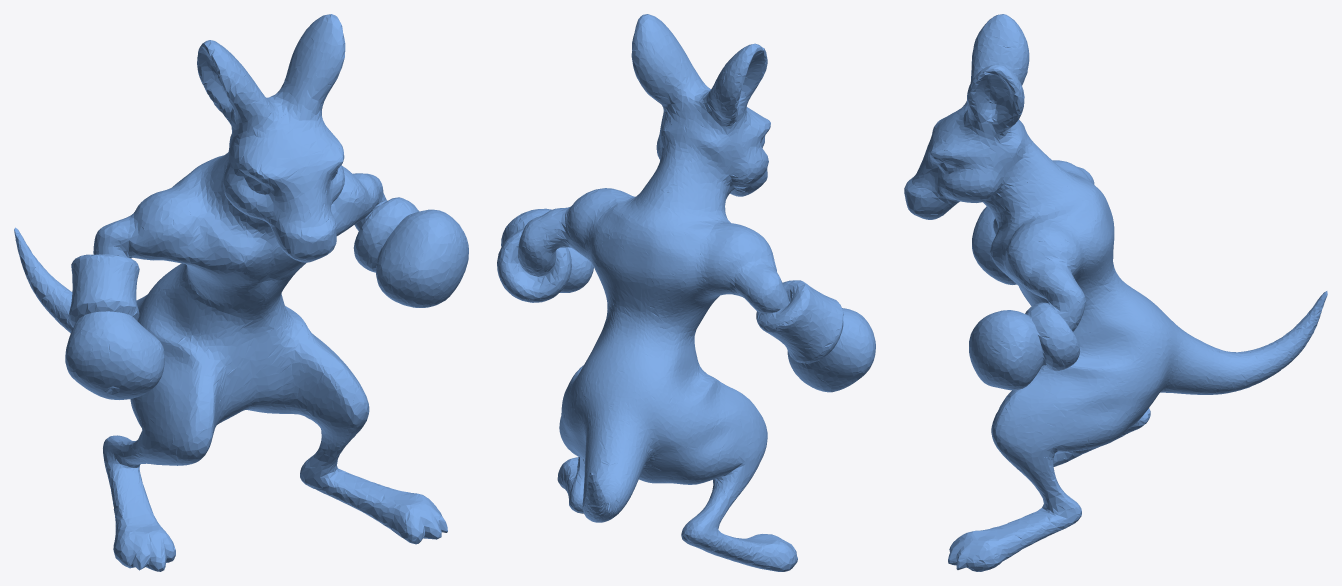
File: animated_mesh.glb
The picture shows the model from 3 angles, left to right: view 1: azimuth 30°, elevation 25°; view 2: azimuth 150°, elevation 25°; view 3: azimuth 270°, elevation 25°; orthographic projection. The views are drawn at different scales.
Parts seen in each view (by area): view 1: AnimatedMesh; view 2: AnimatedMesh; view 3: AnimatedMesh.
Part boxes in pixels (x1,y1,x2,y2): AnimatedMesh: [14, 14, 468, 571]; AnimatedMesh: [497, 14, 875, 571]; AnimatedMesh: [904, 14, 1327, 571].
Size of the model in its own units: 1.46 by 1.87 by 1.53.
